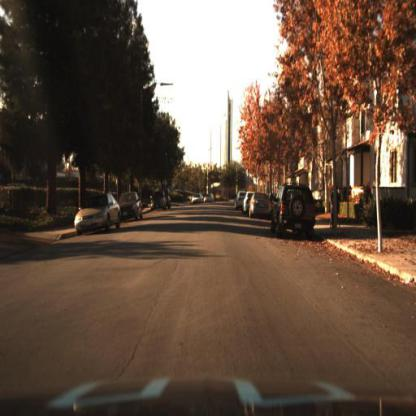car: (269, 181, 322, 245), (72, 187, 125, 243), (121, 189, 146, 223), (118, 190, 143, 223), (249, 190, 274, 220), (151, 188, 168, 215), (150, 191, 167, 212), (233, 188, 244, 217), (190, 188, 204, 210), (243, 191, 253, 221), (204, 188, 217, 207)
pedestrian: (329, 186, 344, 230)
